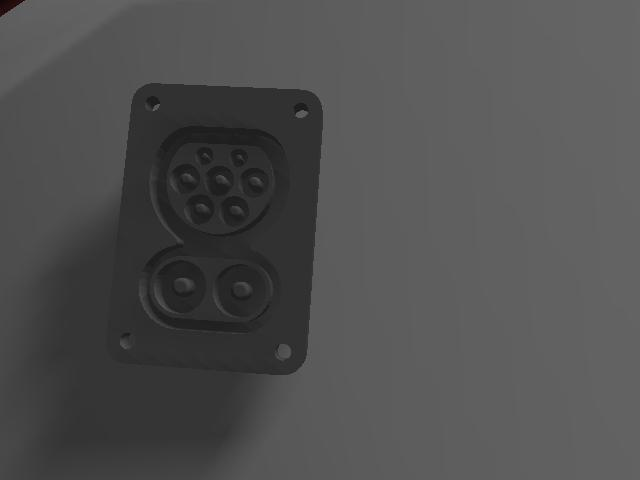EV-socket: (102, 78, 329, 381)
